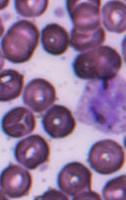N: (77, 75, 126, 133)
